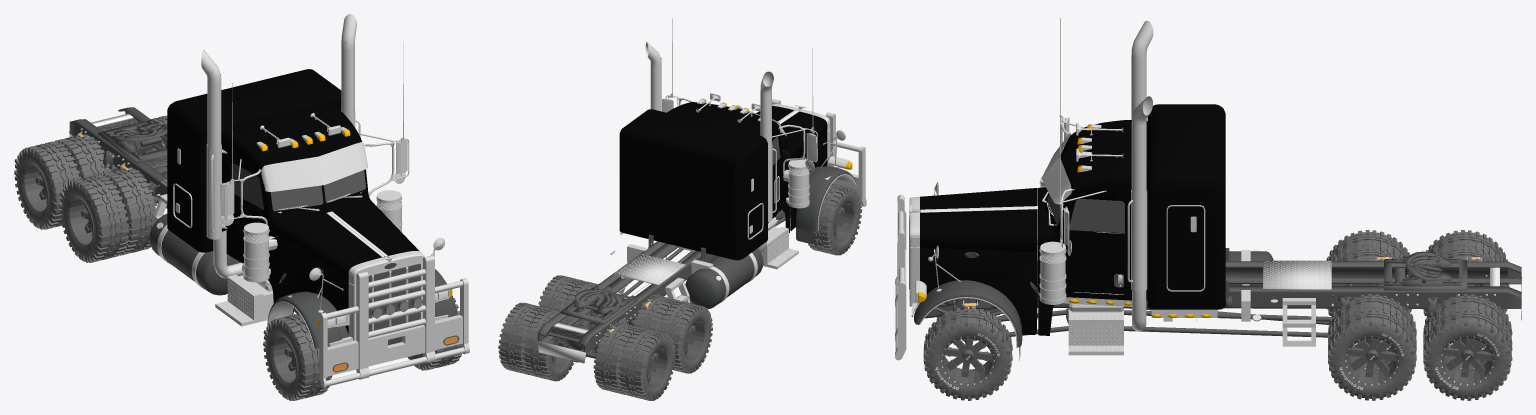
File: peterbilt-truck.glb
The picture shows the model from 3 angles, left to right: view 1: azimuth 30°, elevation 25°; view 2: azimuth 150°, elevation 25°; view 3: azimuth 270°, elevation 25°; orthographic projection. The views are drawn at different scales.
Visible parts, largest first — view 1: Material3 (×11), Material2 (×6), Material4; view 2: Material3 (×15), Material2 (×6); view 3: Material3 (×14), Material2 (×9).
Part boxes in pixels (x1=…): Material3 (×11): x1=14, y1=69, x2=461, y2=400; Material2 (×6): x1=22, y1=14, x2=469, y2=388; Material4: x1=371, y1=297, x2=422, y2=318; Material3 (×15): x1=498, y1=93, x2=862, y2=400; Material2 (×6): x1=537, y1=18, x2=866, y2=388; Material3 (×14): x1=914, y1=104, x2=1521, y2=400; Material2 (×9): x1=895, y1=18, x2=1521, y2=386.
Size of the model in its own units: 162 by 237 by 447.
26 materials, 3 textured.
